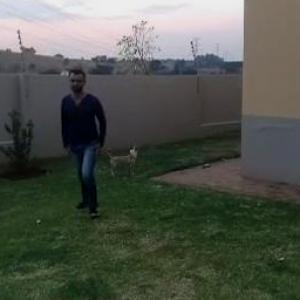follow: (61, 64, 111, 218)
